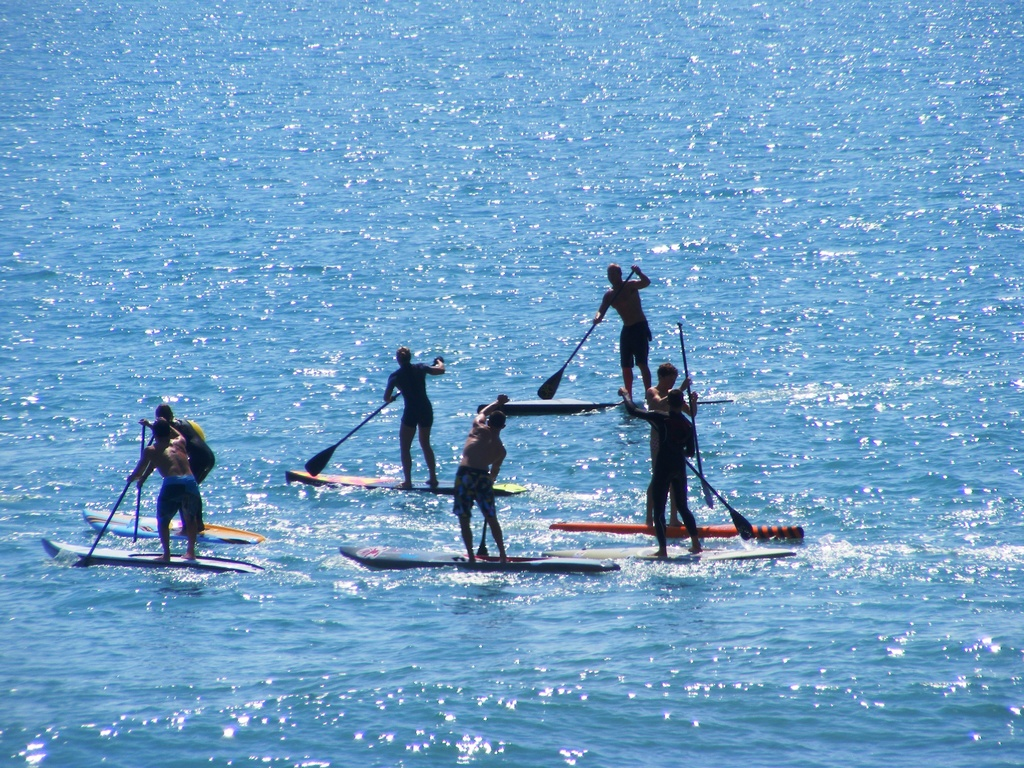Person: (617, 389, 705, 557), (126, 417, 205, 565), (453, 394, 512, 564), (381, 346, 446, 488), (644, 362, 697, 525), (138, 403, 200, 536), (596, 262, 650, 408)
